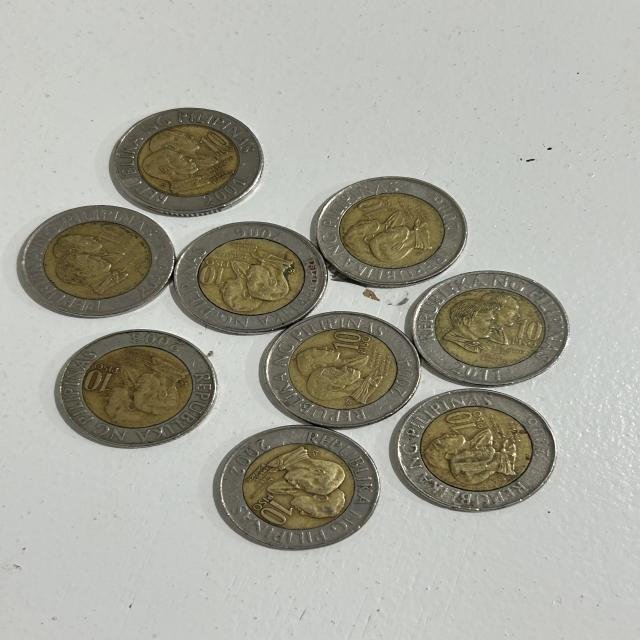10_Old_Front: (55, 223, 142, 295), (250, 489, 299, 529), (327, 327, 374, 360), (193, 253, 233, 291), (508, 315, 548, 350), (79, 359, 117, 393), (355, 193, 398, 220), (441, 407, 479, 436), (197, 130, 234, 158)
